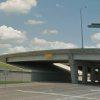Bridge: (3, 46, 100, 68)
